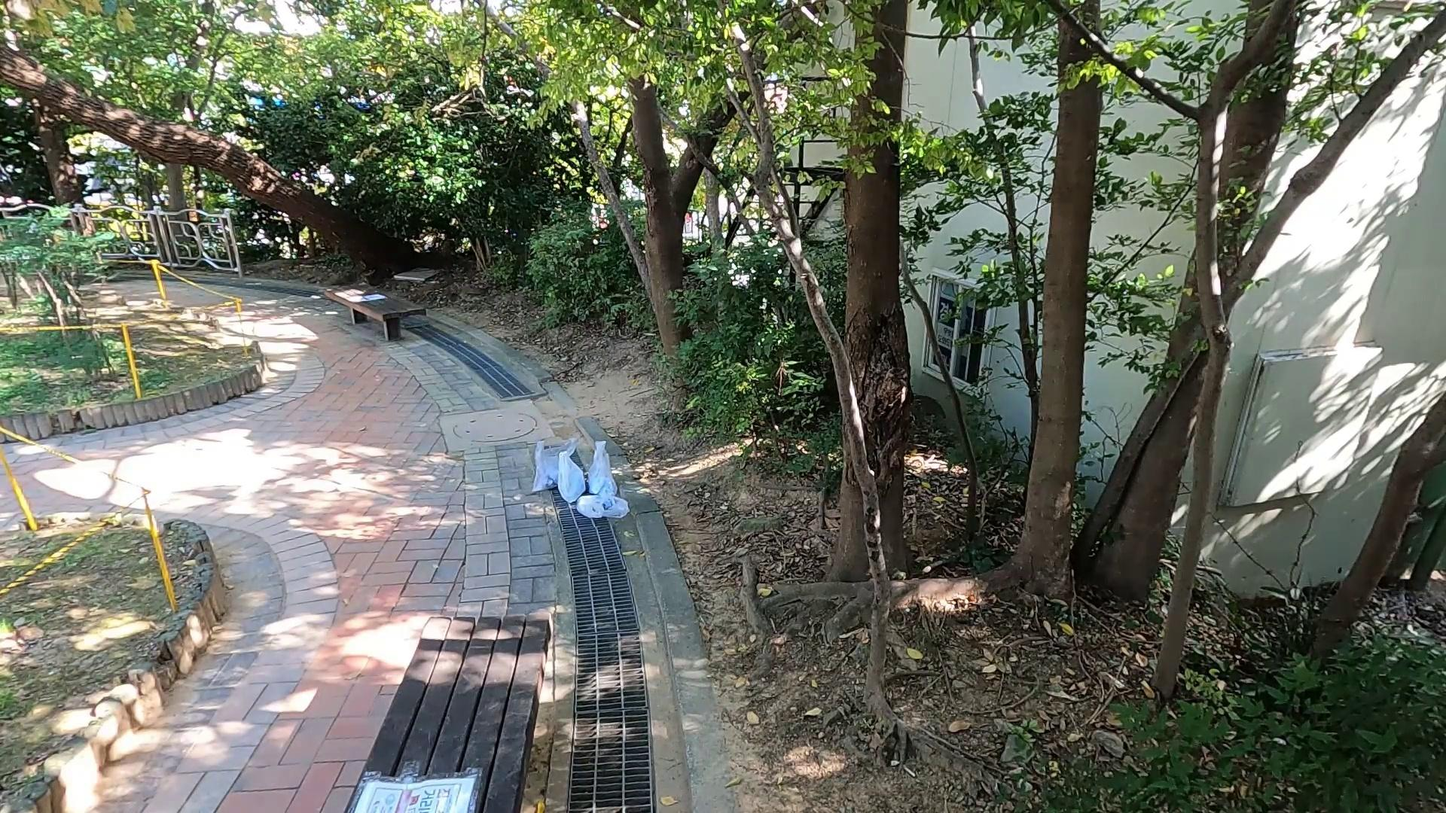trash: (530, 438, 579, 494), (584, 441, 621, 497), (576, 492, 630, 521), (557, 451, 587, 503)
